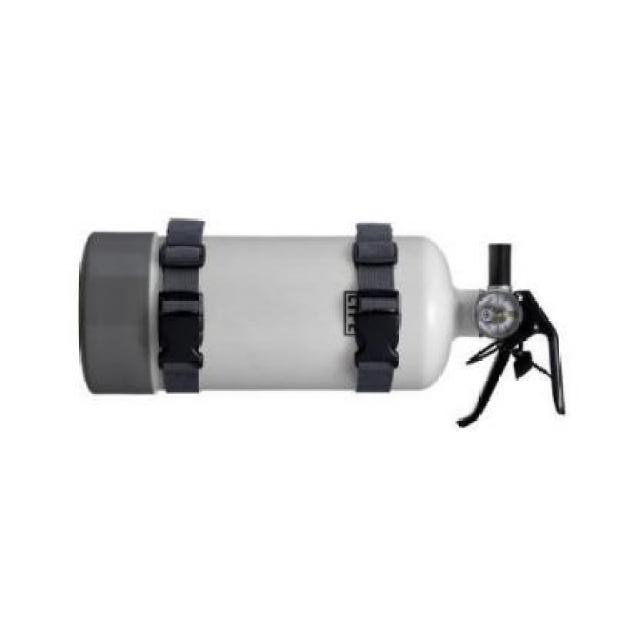fire extinguisher: (79, 223, 565, 429)
